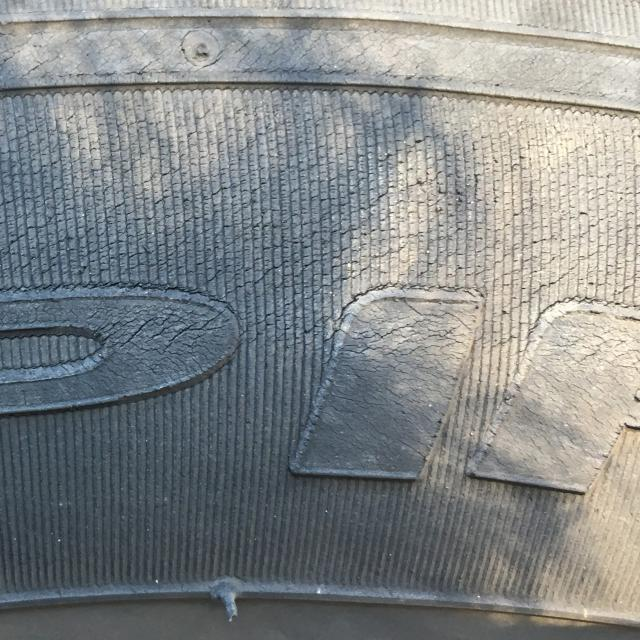Cracks: (0, 4, 640, 524)
